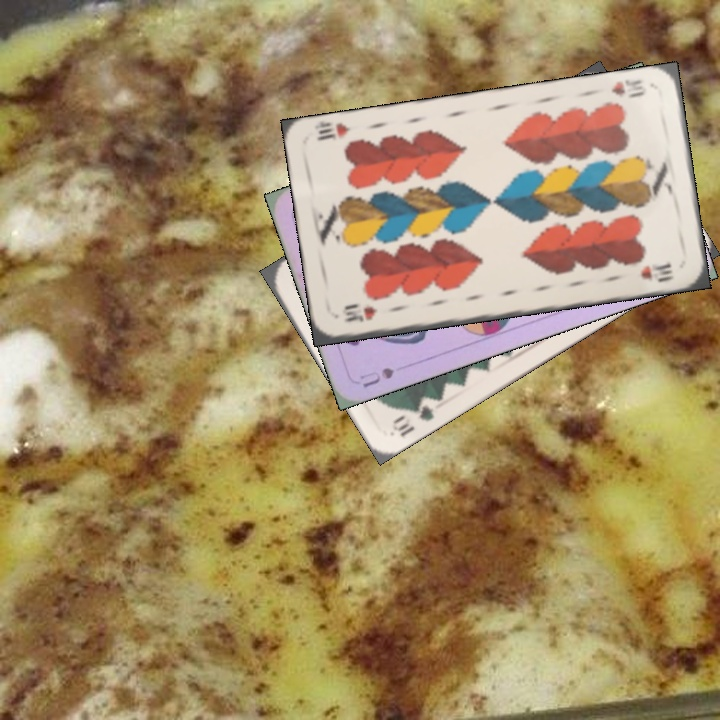G10: (387, 393, 438, 440)
H10: (608, 75, 649, 101), (338, 302, 380, 325)
SU: (356, 363, 397, 391)
